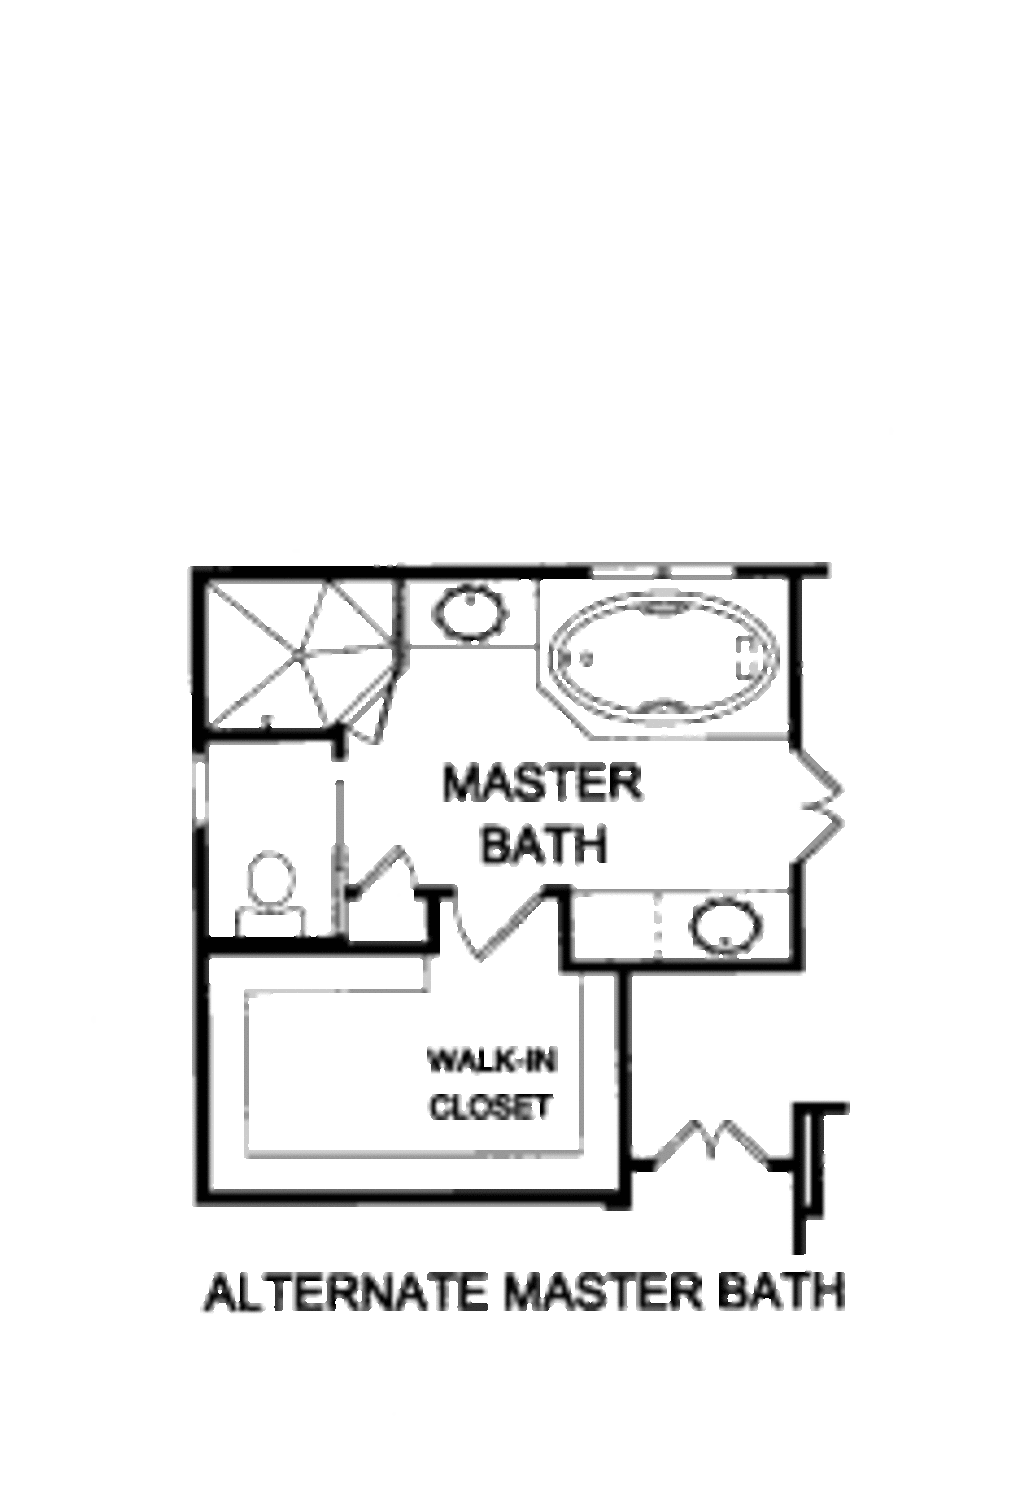door: (658, 1097, 778, 1168), (780, 744, 851, 862), (447, 887, 544, 958), (351, 840, 426, 897)
large_sink: (234, 840, 312, 933)
small_sink: (671, 892, 780, 956), (423, 583, 519, 640)
window: (587, 567, 731, 579), (190, 750, 210, 828)
